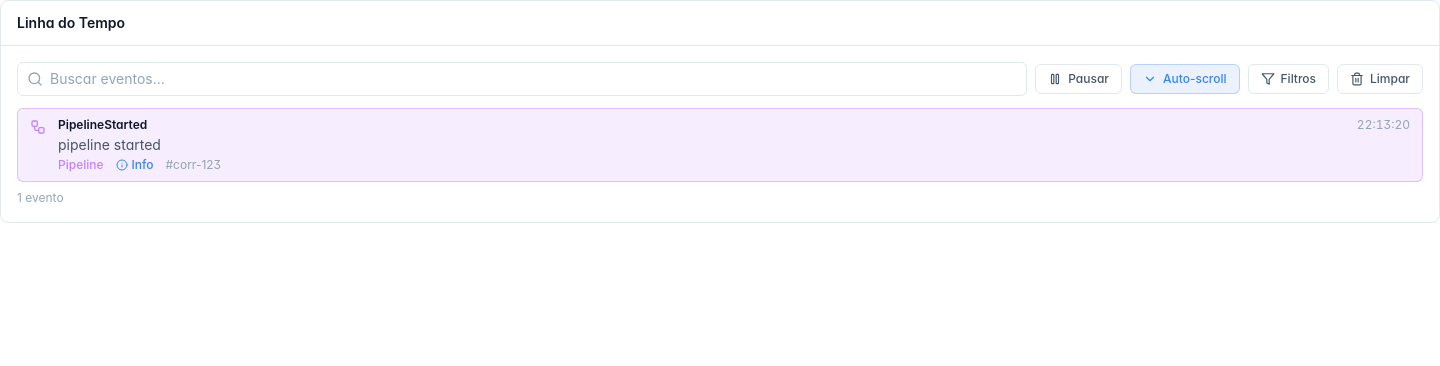
Test case: TimelinePanel › botão clear limpa a visualização
Expected: the number of elements with test id "event-card" is 1, [17, 108, 1423, 182]
Click the button with test id "timeline-clear-btn".
click(1380, 79)  # box [1337, 64, 1423, 94]
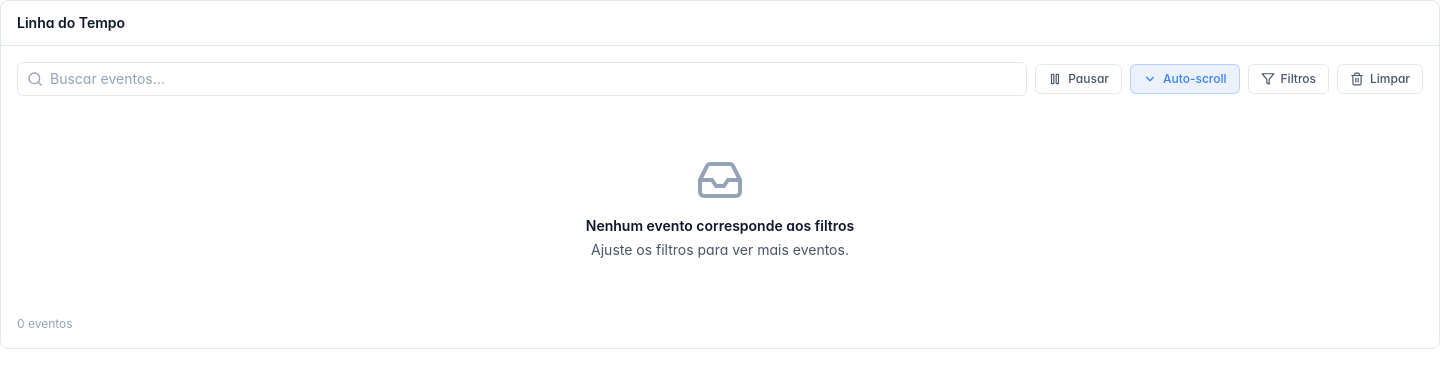
Result: the element with test id "event-card" is gone
